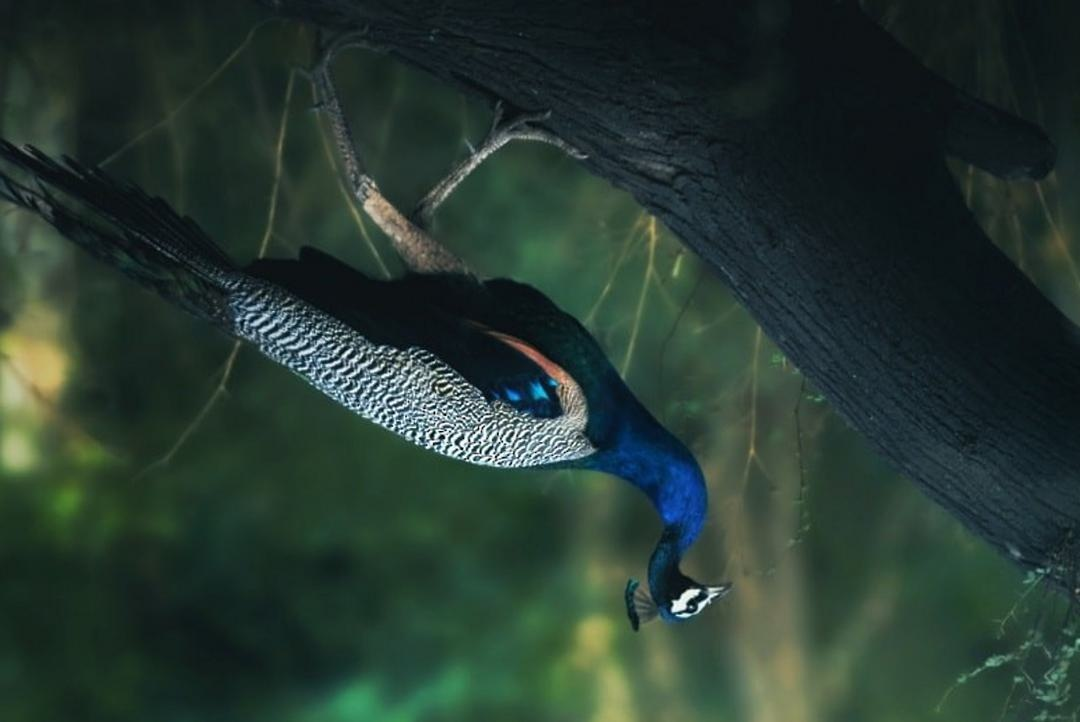peacock: (111, 195, 753, 660)
